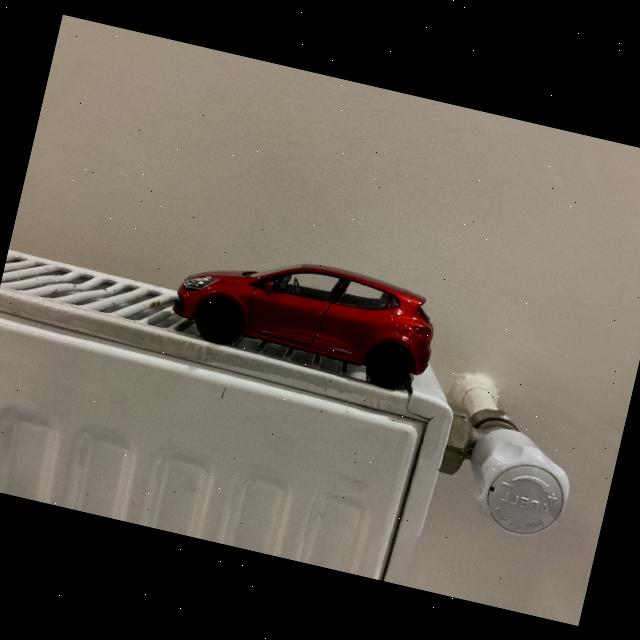Dogru_Jant: (195, 298, 238, 340), (367, 344, 408, 386)
